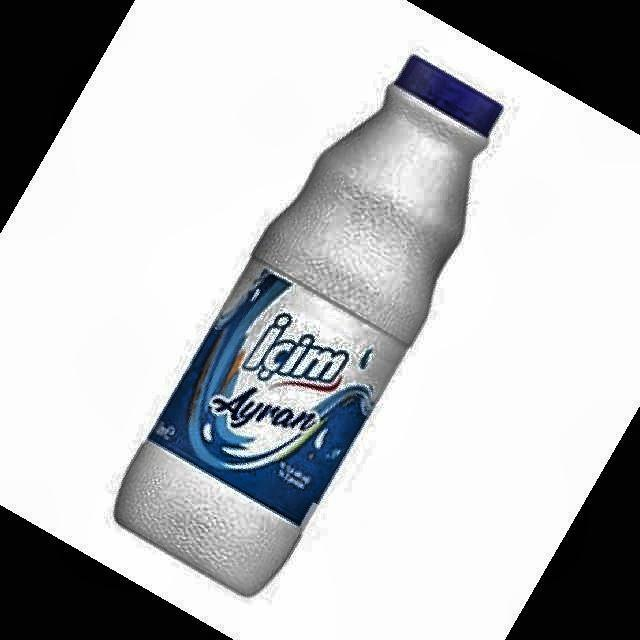plastic: (115, 55, 502, 594)
